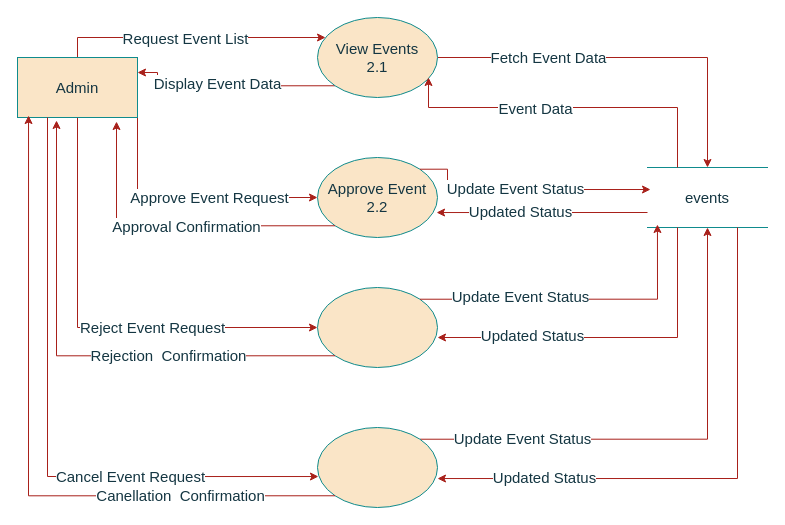
Some shapes in this 785 by 525 pixel diagram are drawn without their labels. Here are the shapes that lost their labels. From the top down, the centre of each, then its label:
pixel 377 327: Reject Event 2.3
pixel 377 467: Cancel Event 2.4
